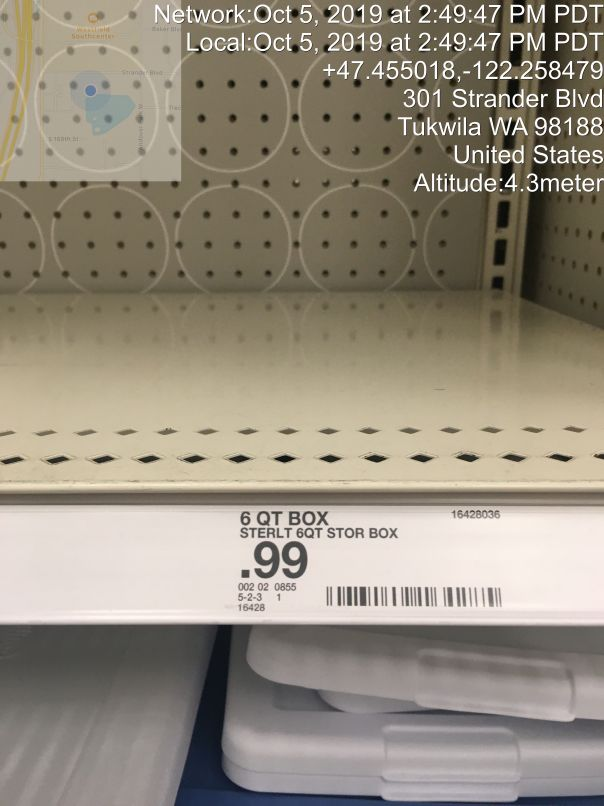Label: (216, 504, 516, 623)
Location: (390, 82, 604, 174)
Time: (145, 1, 604, 59)
Void: (20, 125, 562, 408)
